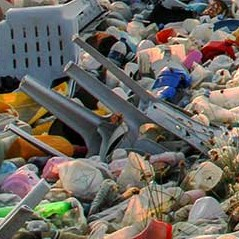garbage: (1, 2, 239, 238)
